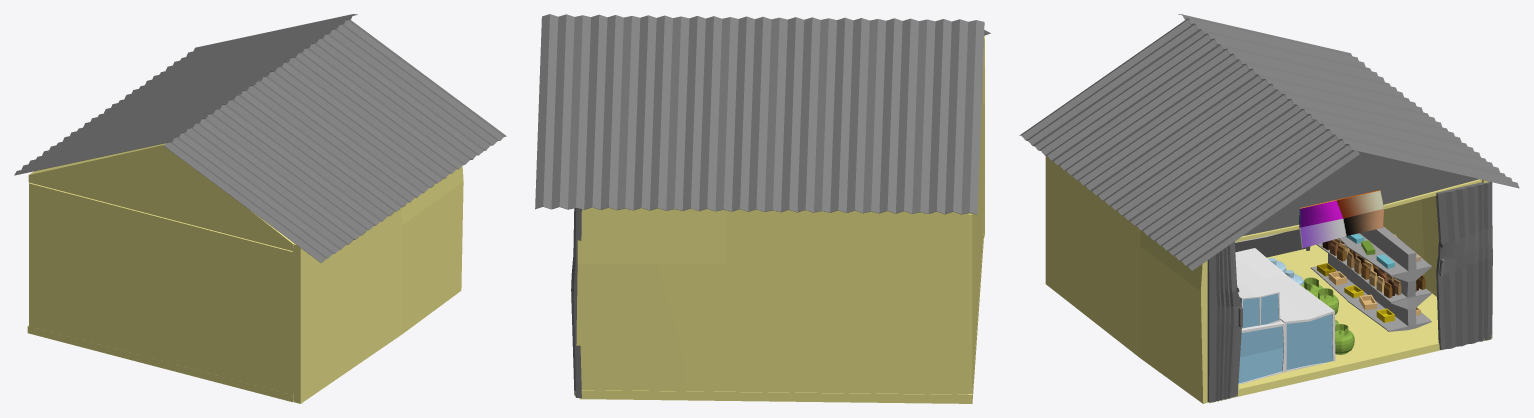
Rendered from warung1.fbx.
3 views of the same model, side by side, from view 1: azimuth 30°, elevation 25°; view 2: azimuth 150°, elevation 25°; view 3: azimuth 270°, elevation 25° (orthographic). The views are drawn at different scales.
Parts seen in each view (by area): view 1: Warung.002; view 2: Warung.002; view 3: Warung.002.
Part boxes in pixels (left/top/right/bottom): Warung.002: left=14, top=14, right=506, bottom=403; Warung.002: left=535, top=14, right=990, bottom=403; Warung.002: left=1019, top=14, right=1519, bottom=403.
Size of the model in its own units: 1643 by 883 by 1653.
